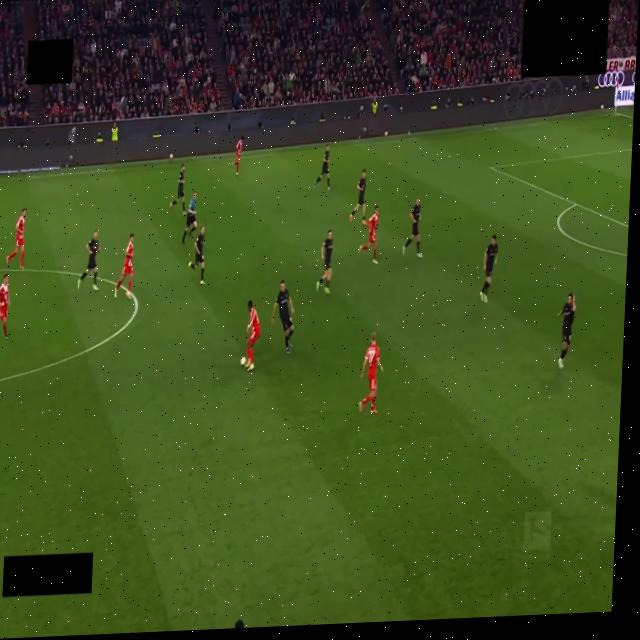ball: (240, 356, 246, 366)
player: (358, 333, 383, 414), (271, 281, 294, 354), (558, 294, 576, 368), (78, 230, 100, 290), (115, 234, 134, 297), (7, 208, 26, 270), (359, 206, 379, 264), (480, 235, 497, 303), (403, 198, 422, 258), (316, 230, 333, 294), (245, 300, 260, 371), (349, 169, 366, 222), (189, 225, 204, 284), (314, 145, 330, 190), (170, 164, 185, 211), (0, 274, 10, 339), (233, 136, 243, 175)
referee: (182, 191, 197, 244)
